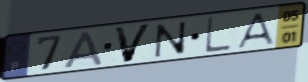7: (34, 33, 67, 72)
A: (234, 11, 278, 51), (62, 30, 106, 70)
L: (203, 15, 233, 55)
N: (153, 20, 188, 59)
V: (112, 22, 155, 65)
